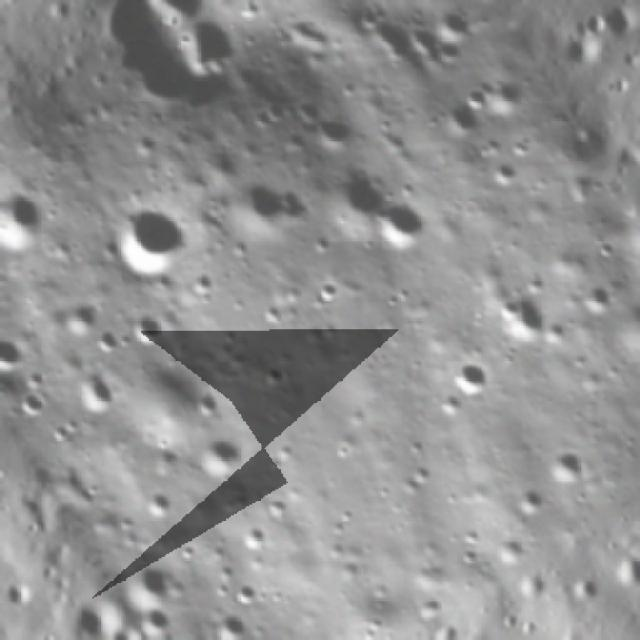crater: (94, 185, 206, 301), (216, 158, 310, 252), (310, 155, 396, 239), (478, 275, 558, 357), (110, 547, 187, 622), (433, 344, 507, 418), (371, 186, 444, 260), (532, 429, 602, 500), (0, 180, 60, 262), (188, 426, 252, 491), (565, 268, 627, 330), (63, 364, 123, 428), (435, 86, 493, 146), (199, 595, 264, 640), (121, 302, 167, 355), (56, 295, 101, 343), (0, 324, 28, 378), (0, 167, 9, 233)
